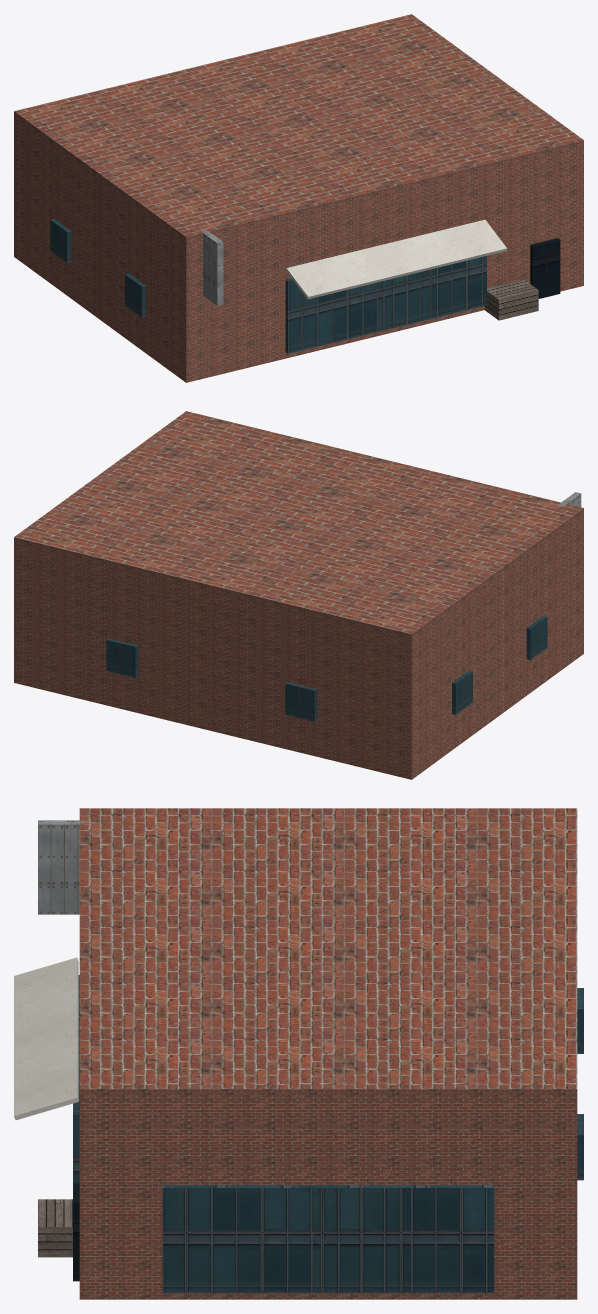
Rendered from corner-grocery_lod0.gltf.
3 views of the same model, one above another, from view 1: azimuth 30°, elevation 25°; view 2: azimuth 150°, elevation 25°; view 3: azimuth 270°, elevation 25° (orthographic). The views are drawn at different scales.
Visible parts, largest first — view 1: corner-grocery_main, corner-grocery_fen_07-glass-curtain-blue_0, corner-grocery__awning, corner-grocery__crates, corner-grocery_fen_07-glass-curtain-blue_1_t, corner-grocery__blade_sign; view 2: corner-grocery_main, corner-grocery_fen_07-glass-curtain-blue_0; view 3: corner-grocery_main, corner-grocery_fen_07-glass-curtain-blue_0, corner-grocery__awning, corner-grocery__blade_sign, corner-grocery__crates, corner-grocery_fen_07-glass-curtain-blue_1_t.
Boxes of the visible parts, box(x1,y1,x2,y2) form: corner-grocery_main: box(14, 14, 583, 382); corner-grocery_fen_07-glass-curtain-blue_0: box(50, 218, 486, 353); corner-grocery__awning: box(286, 219, 506, 299); corner-grocery__crates: box(484, 279, 538, 320); corner-grocery_fen_07-glass-curtain-blue_1_t: box(530, 238, 560, 298); corner-grocery__blade_sign: box(201, 229, 223, 305); corner-grocery_main: box(14, 411, 583, 779); corner-grocery_fen_07-glass-curtain-blue_0: box(106, 615, 547, 721); corner-grocery_main: box(79, 808, 577, 1299); corner-grocery_fen_07-glass-curtain-blue_0: box(73, 975, 583, 1293); corner-grocery__awning: box(14, 957, 78, 1120); corner-grocery__blade_sign: box(38, 820, 87, 914); corner-grocery__crates: box(38, 1199, 72, 1257); corner-grocery_fen_07-glass-curtain-blue_1_t: box(73, 1183, 79, 1281).
Bounding box in the file's own units: 20.4 × 7 × 17.17.
